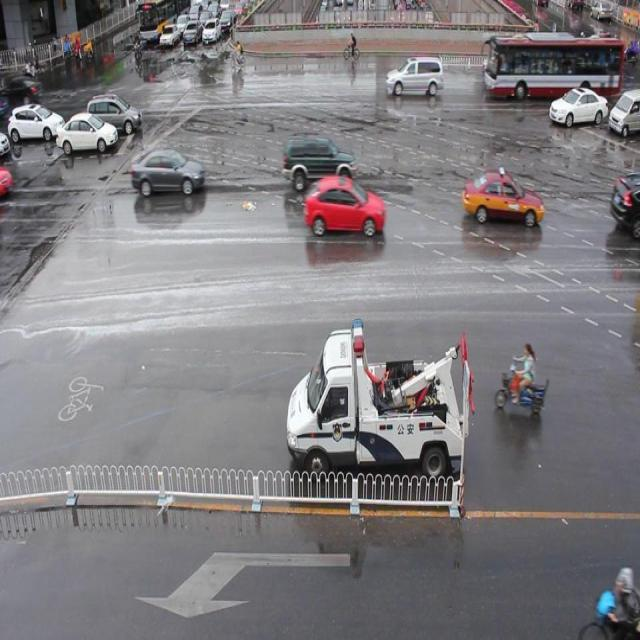car: (481, 28, 627, 111), (299, 170, 389, 247), (458, 164, 548, 238), (280, 126, 356, 198), (130, 144, 206, 210), (382, 51, 448, 108), (549, 79, 609, 137), (53, 108, 117, 160), (8, 100, 59, 154), (612, 82, 640, 140), (202, 12, 221, 48), (160, 21, 179, 49), (183, 20, 199, 48)
